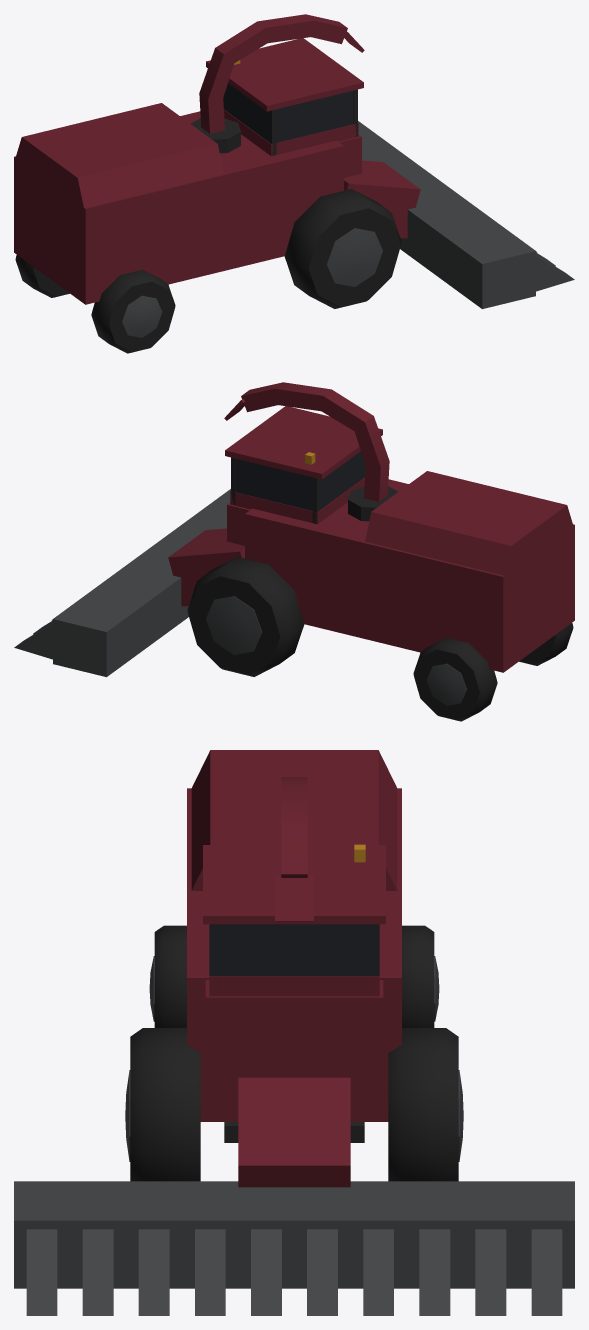
Rendered from SM_Prop_farm_forager_1_LOD1.glb.
The picture shows the model from 3 angles, top to bottom: view 1: azimuth 30°, elevation 25°; view 2: azimuth 150°, elevation 25°; view 3: azimuth 270°, elevation 25°; orthographic projection. The views are drawn at different scales.
Parts seen in each view (by area): view 1: SM_Prop_farm_forager_1_LOD1; view 2: SM_Prop_farm_forager_1_LOD1; view 3: SM_Prop_farm_forager_1_LOD1.
Part boxes in pixels (bbox=[...]): SM_Prop_farm_forager_1_LOD1: bbox=[14, 14, 574, 353]; SM_Prop_farm_forager_1_LOD1: bbox=[14, 382, 574, 721]; SM_Prop_farm_forager_1_LOD1: bbox=[14, 750, 574, 1315].
Bounding box in the file's own units: 8.1 × 4.51 × 6.
